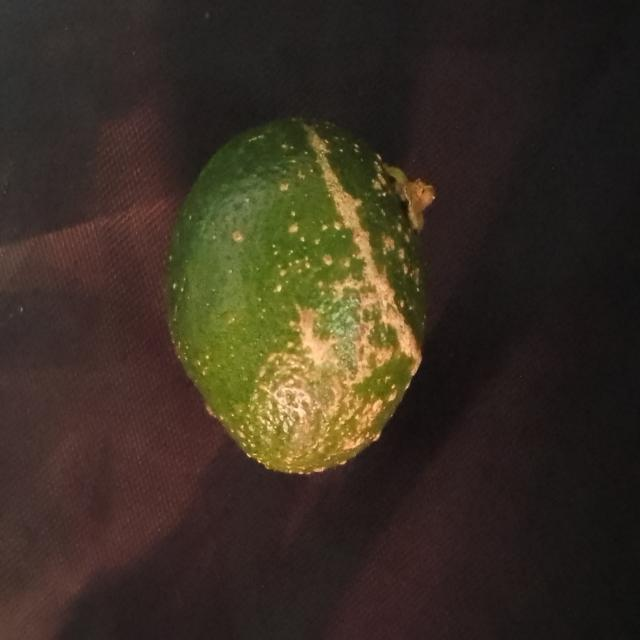scab: (146, 113, 440, 482)
